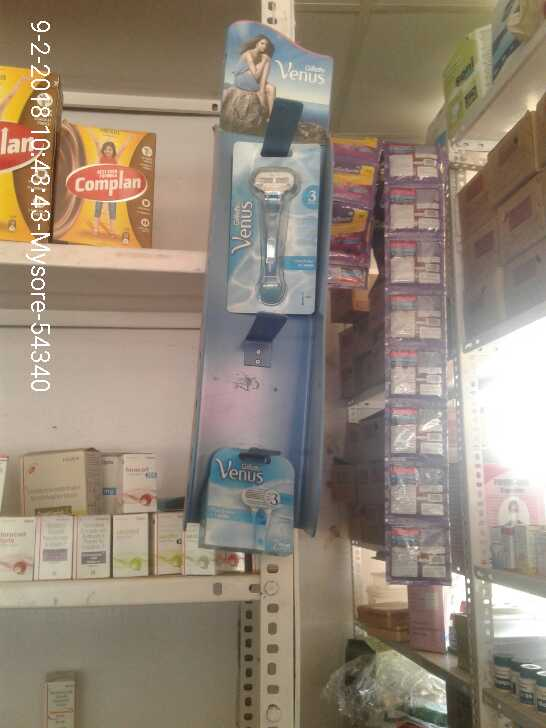venus: (229, 130, 317, 320), (203, 448, 300, 561)
